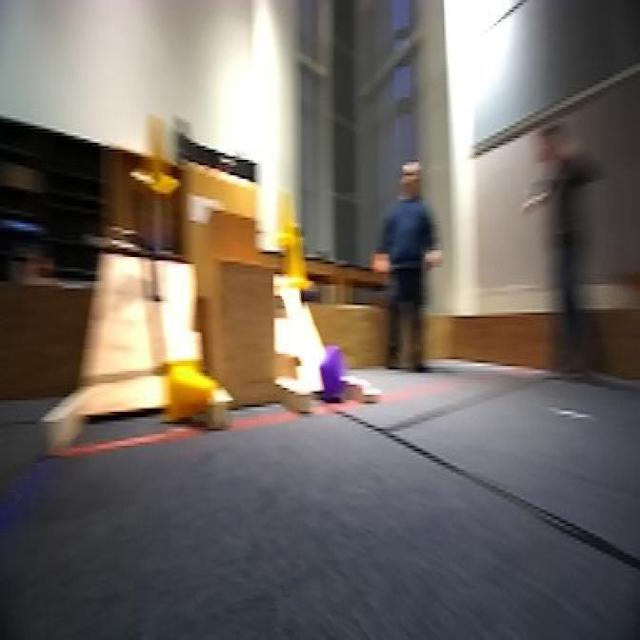frc_cone: (167, 362, 220, 426), (142, 114, 179, 196), (284, 223, 313, 288), (280, 196, 302, 242)
frc_cube: (319, 351, 348, 396)
